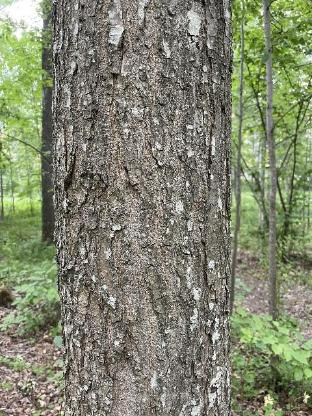tree: (40, 0, 250, 416)
